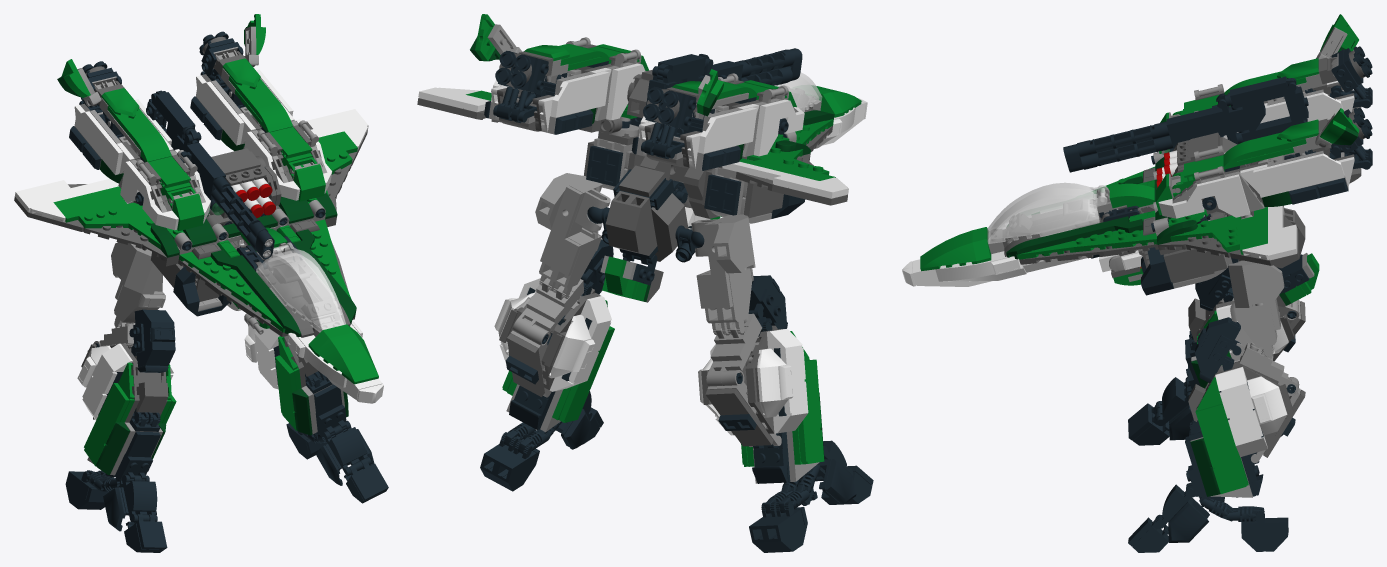
Rendered from afc-01i-legioss-gerwalk.dae.
3 views of the same model, side by side, from view 1: azimuth 30°, elevation 25°; view 2: azimuth 150°, elevation 25°; view 3: azimuth 270°, elevation 25° (orthographic). The views are drawn at different scales.
Bounding box in the file's own units: 560 × 649 × 663.
